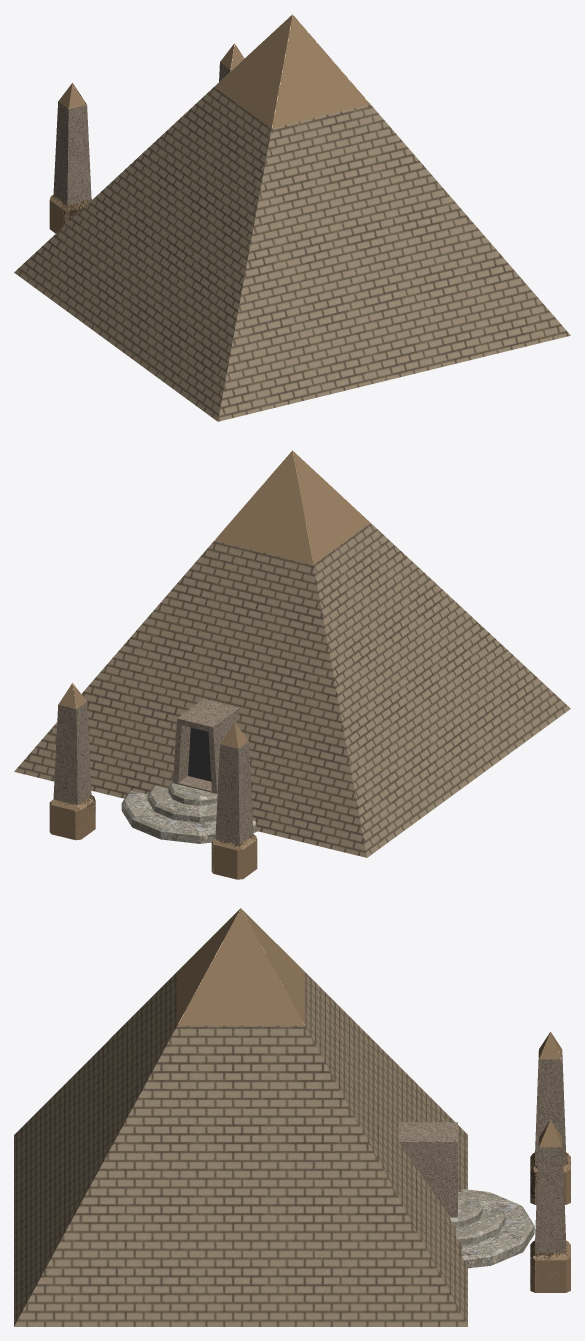
The picture shows the model from 3 angles, top to bottom: view 1: azimuth 30°, elevation 25°; view 2: azimuth 150°, elevation 25°; view 3: azimuth 270°, elevation 25°; orthographic projection. The views are drawn at different scales.
Visible parts, largest first — view 1: defaultMaterial; view 2: defaultMaterial; view 3: defaultMaterial.
Boxes of the visible parts, box(x1,y1,x2,y2) form: defaultMaterial: box(14, 14, 570, 421); defaultMaterial: box(14, 450, 570, 879); defaultMaterial: box(14, 908, 570, 1326).
Bounding box in the file's own units: 1803 × 1455 × 2211.
1 material, 1 textured.
